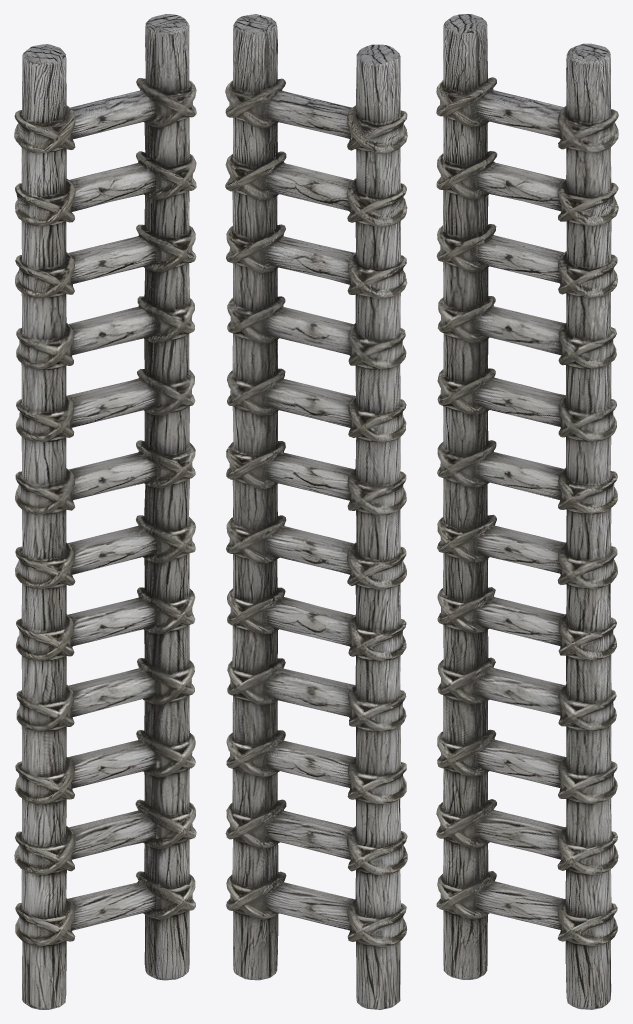
File: bb_ladder.ed00c35aff.glb
3 views of the same model, side by side, from view 1: azimuth 30°, elevation 25°; view 2: azimuth 150°, elevation 25°; view 3: azimuth 330°, elevation 25° (orthographic).
Visible parts, largest first — view 1: bb_ladder; view 2: bb_ladder; view 3: bb_ladder.
Part boxes in pixels (box(x1,y1,x2,y2)): bb_ladder: box(14, 14, 196, 1009); bb_ladder: box(225, 14, 407, 1009); bb_ladder: box(436, 14, 618, 1009).
Size of the model in its own units: 0.355 by 1.9 by 0.1316.
1 material, 1 textured.
